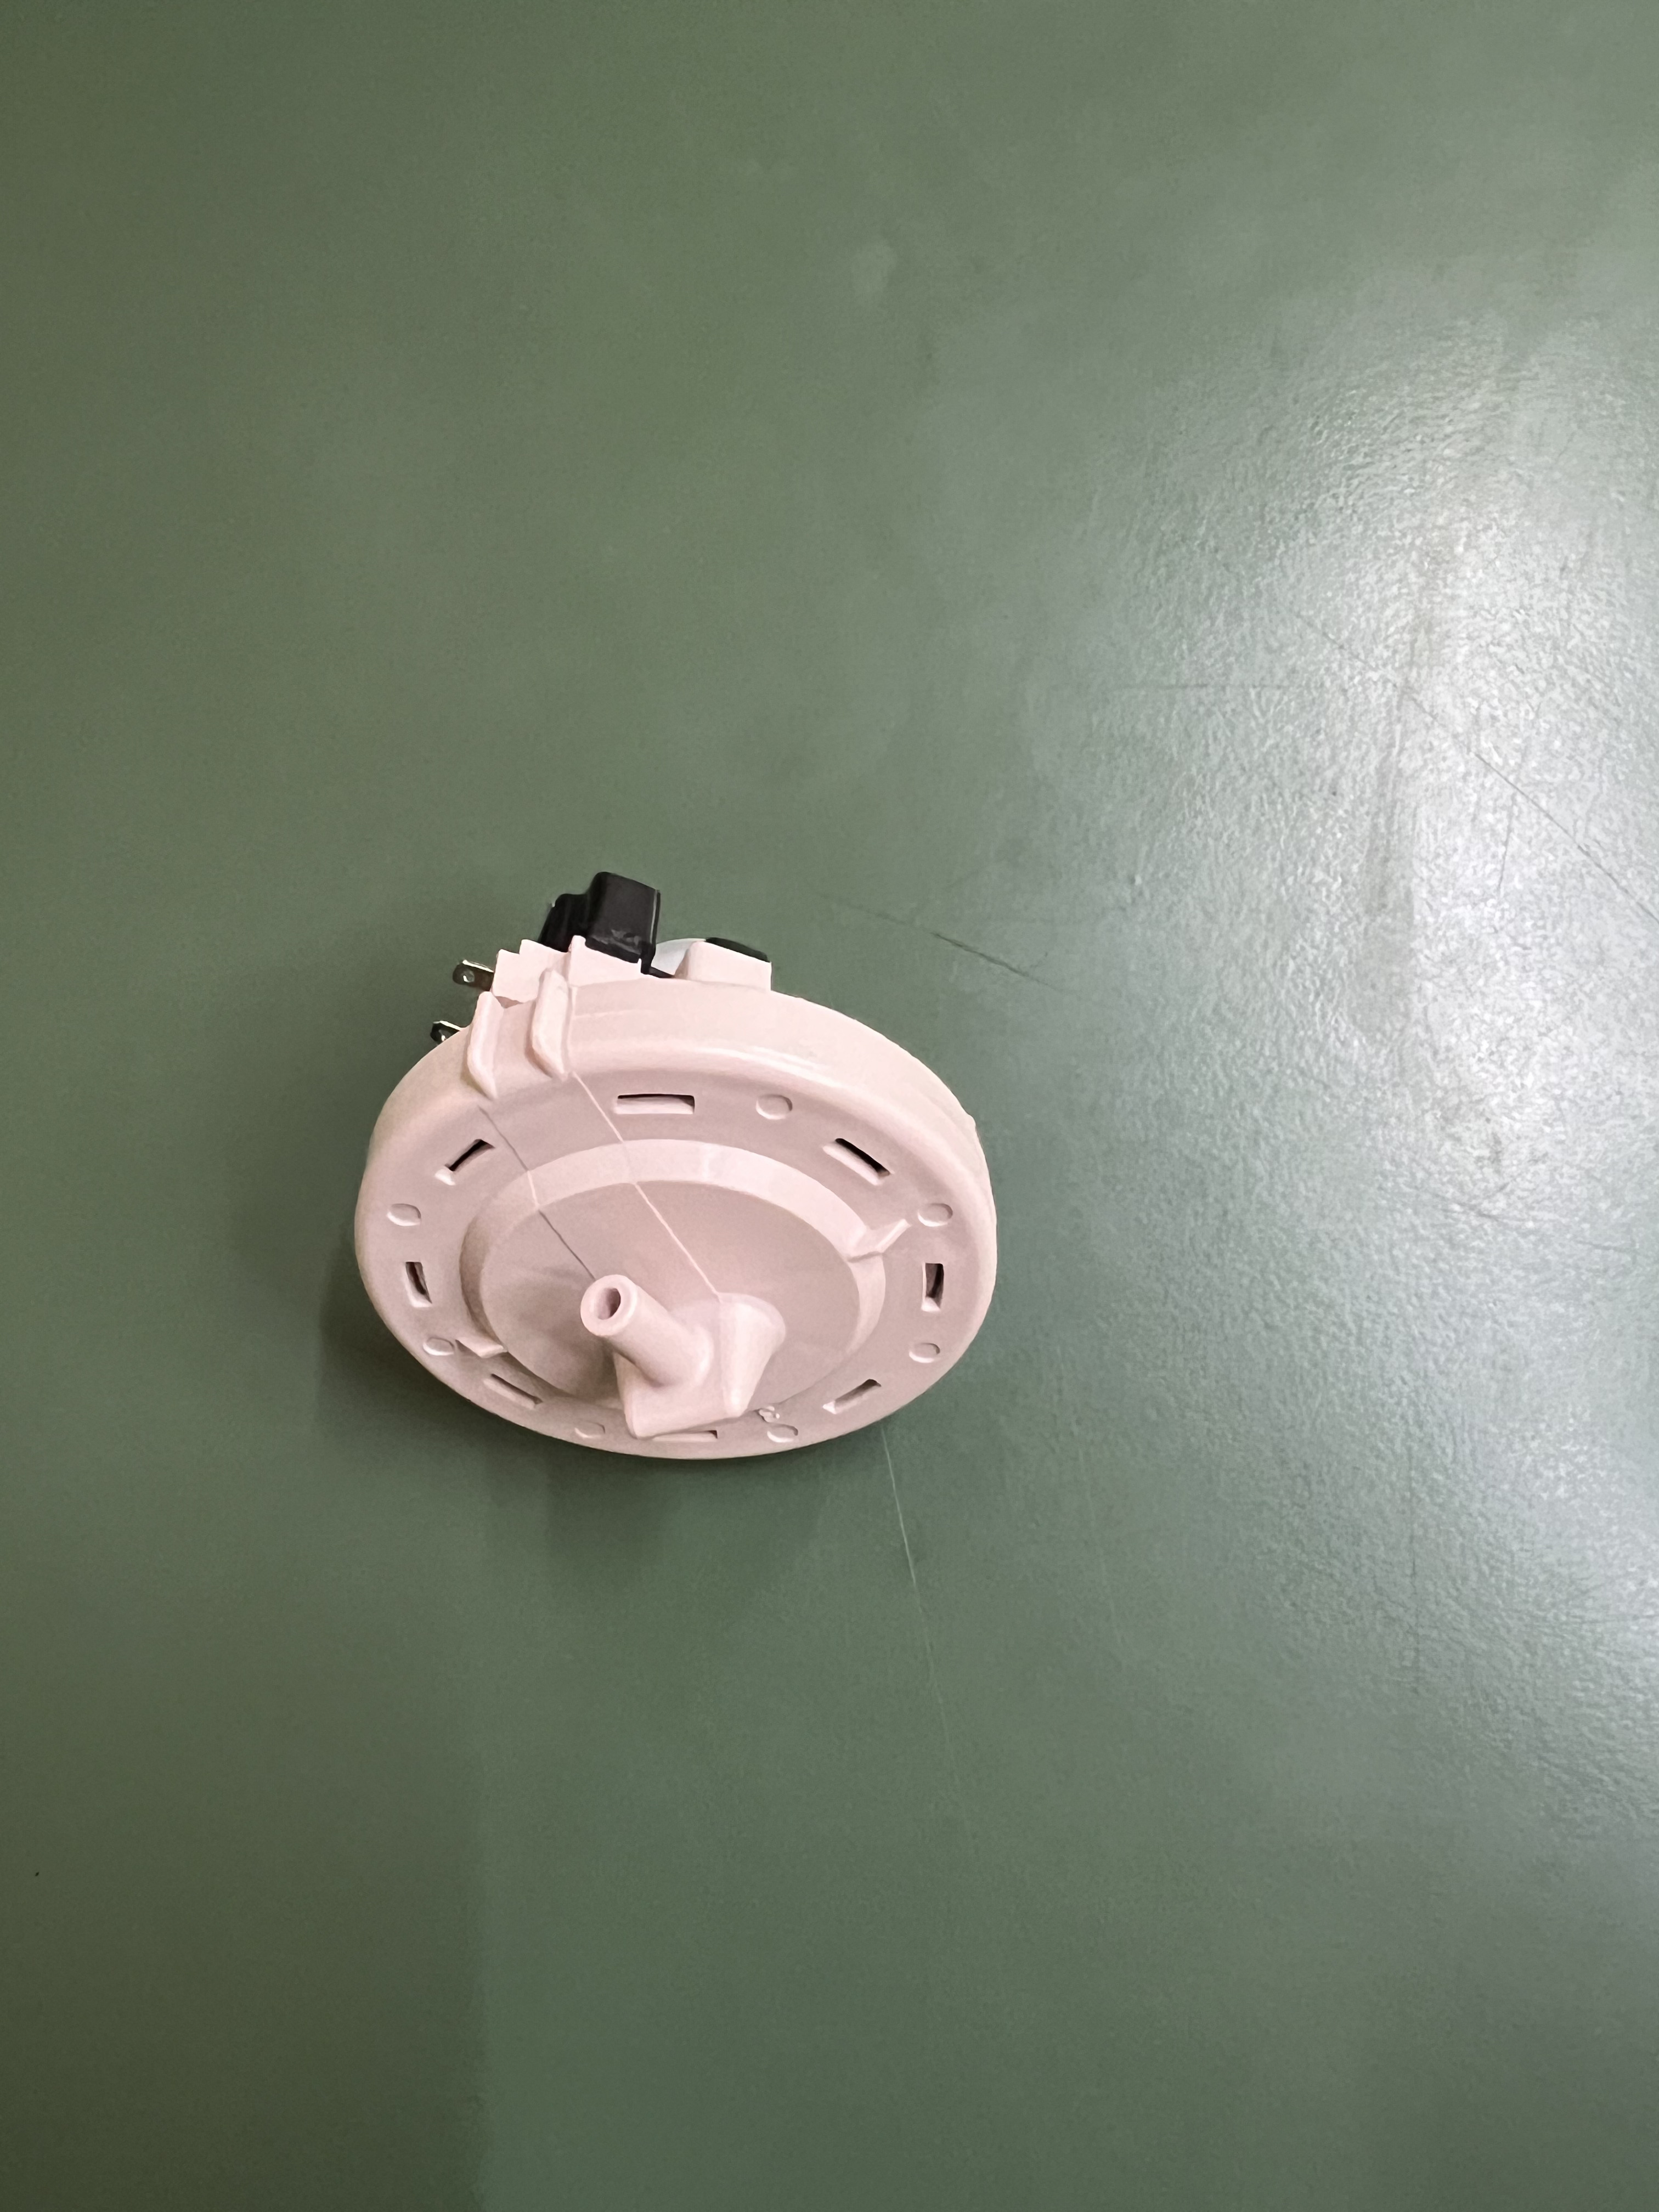pressure_sensor: (338, 888, 1004, 1479)
